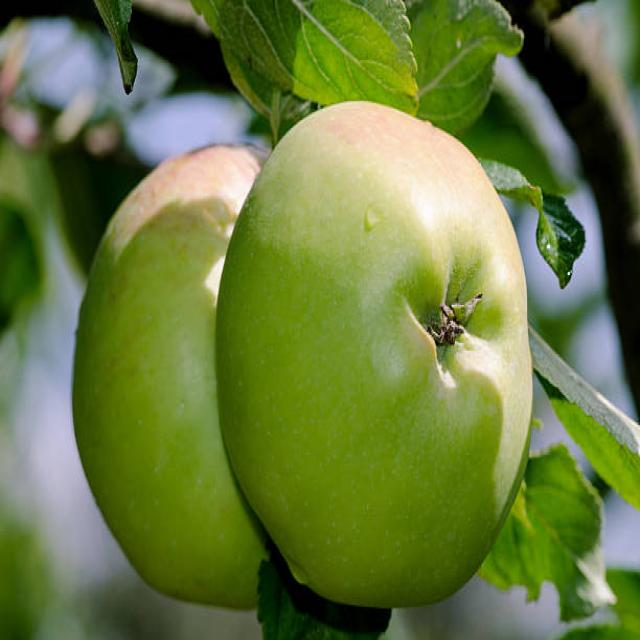Unripe: (214, 99, 532, 609)
